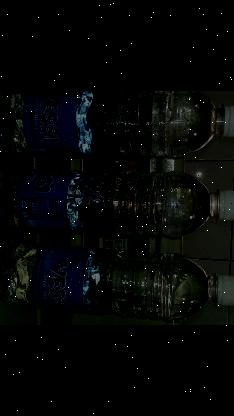Plastic Bottle: (0, 243, 234, 319), (0, 169, 234, 237), (0, 91, 234, 156)
